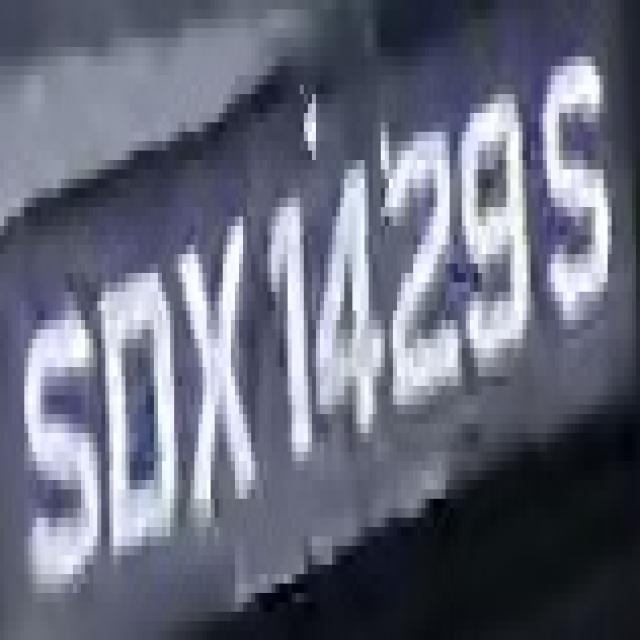1: (271, 142, 320, 490)
2: (377, 94, 470, 424)
4: (312, 141, 389, 471)
9: (446, 57, 538, 414)
D: (98, 264, 186, 564)
S: (12, 254, 101, 612), (522, 57, 624, 367)
X: (170, 217, 267, 556)
